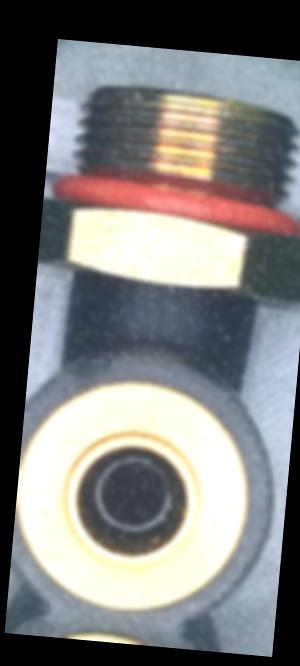bump: (61, 342, 117, 387)
joint line: (152, 284, 170, 345)
